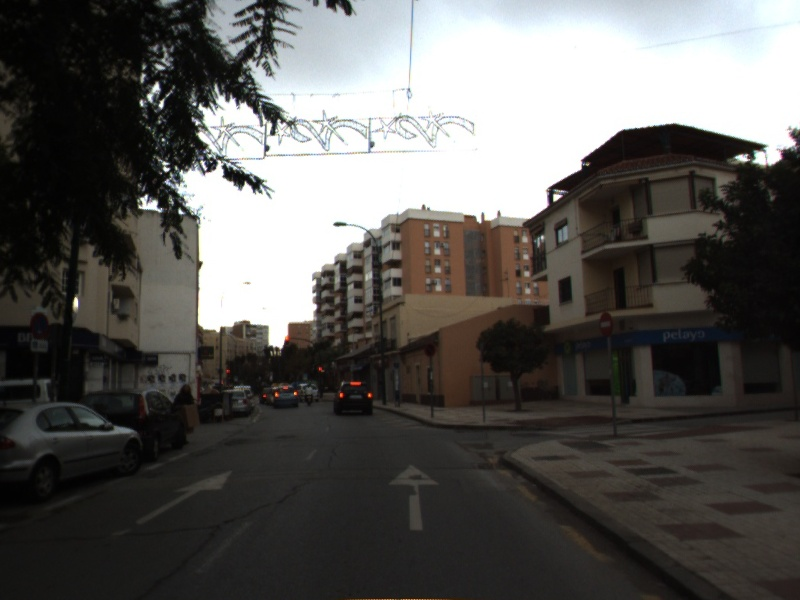STRAIGHT: (131, 467, 236, 528), (385, 461, 443, 533)
